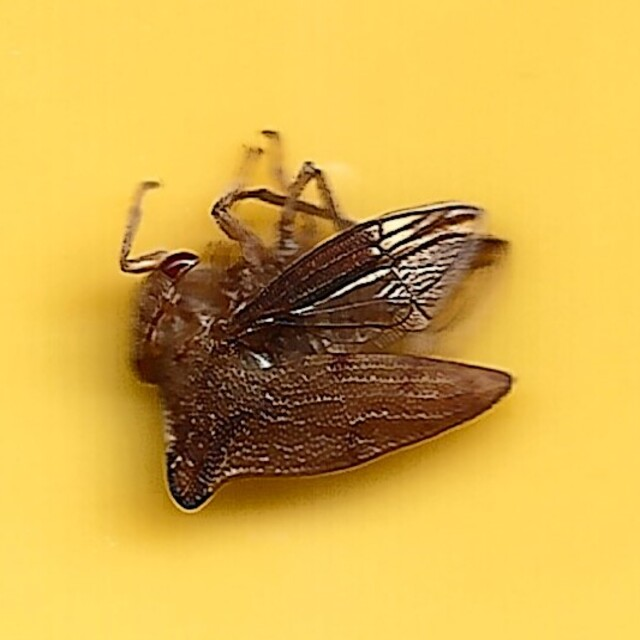Hemiptera: (120, 124, 520, 516)
